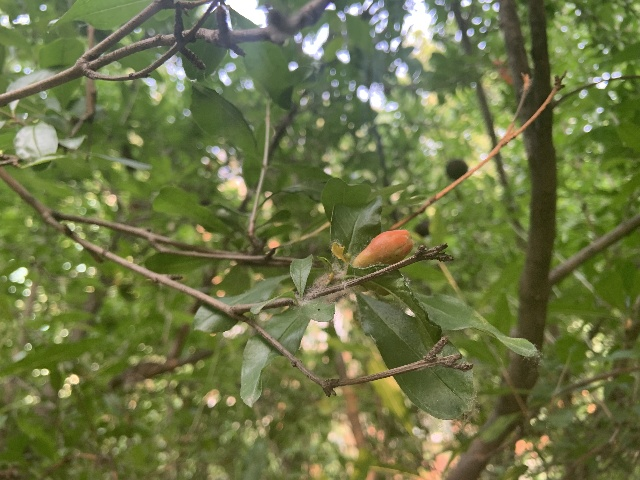bud: (353, 229, 413, 267)
